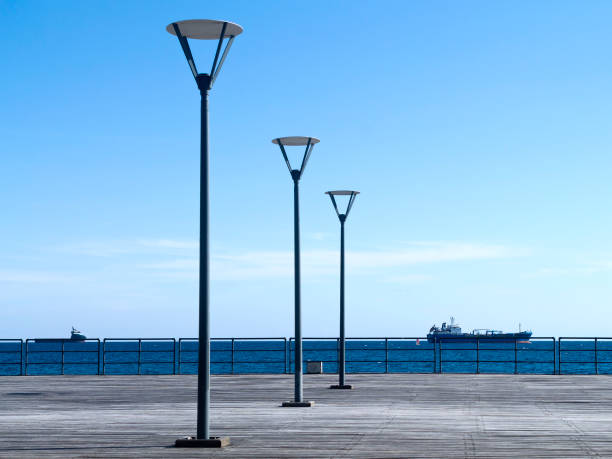light_pole: (197, 82, 212, 444), (290, 181, 306, 406), (338, 222, 348, 388)
